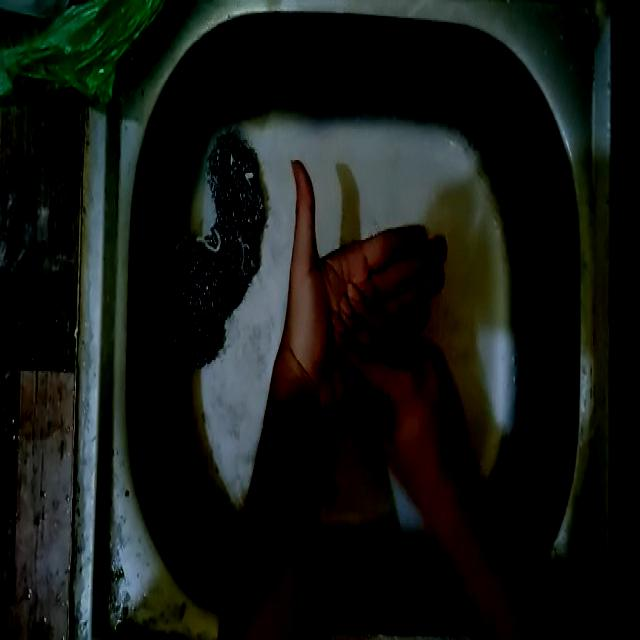step_6: (284, 152, 470, 461)
